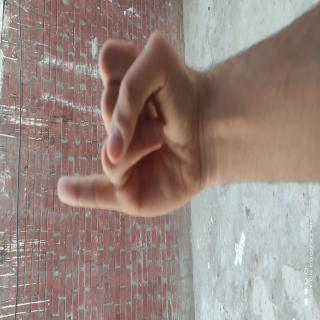MEEM: (45, 116, 133, 320)
